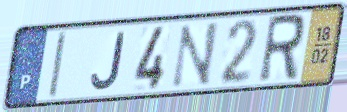2: (220, 17, 260, 87)
4: (131, 23, 167, 92)
I: (46, 29, 69, 101)
J: (89, 30, 128, 92)
N: (168, 19, 221, 91)
R: (255, 11, 308, 86)
